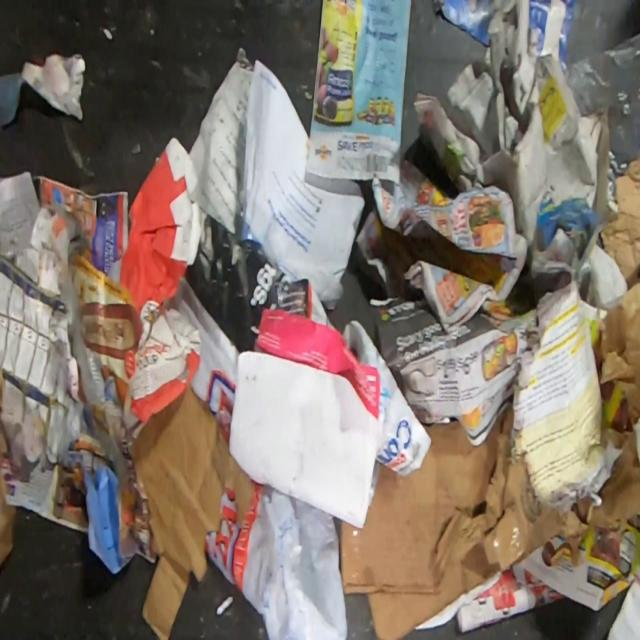cardboard: (340, 403, 640, 640), (130, 384, 254, 640), (118, 136, 207, 423)
rigid_plastic: (341, 320, 431, 477)
soft_plastic: (206, 480, 348, 640), (173, 276, 240, 441), (562, 32, 640, 163)
